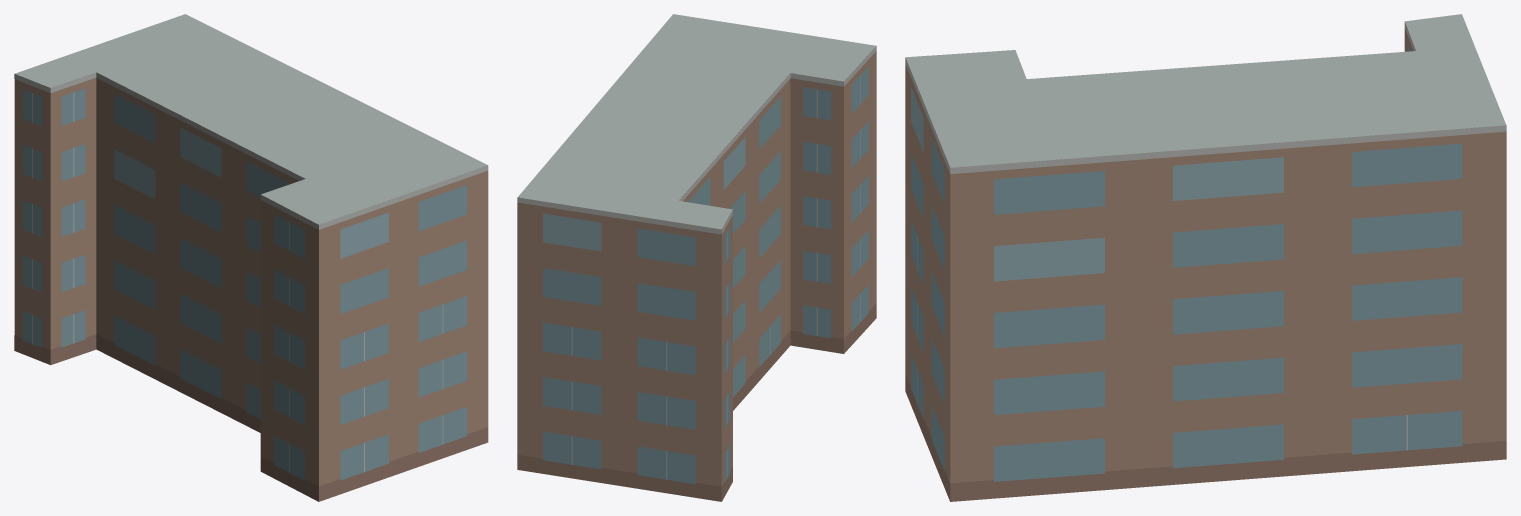
Rendered from survey-upis-33013363.glb.
3 views of the same model, side by side, from view 1: azimuth 30°, elevation 25°; view 2: azimuth 150°, elevation 25°; view 3: azimuth 270°, elevation 25° (orthographic). The views are drawn at different scales.
Parts seen in each view (by area): view 1: survey-upis-33013363.tmp; view 2: survey-upis-33013363.tmp; view 3: survey-upis-33013363.tmp.
Part boxes in pixels (bbox=[...]): survey-upis-33013363.tmp: bbox=[14, 14, 488, 501]; survey-upis-33013363.tmp: bbox=[517, 14, 876, 501]; survey-upis-33013363.tmp: bbox=[905, 14, 1506, 501].
Size of the model in its own units: 12.85 by 13 by 21.21.
